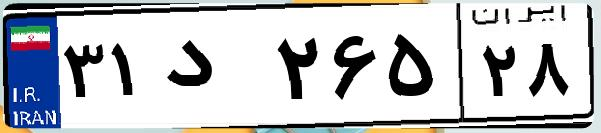1: (110, 28, 158, 98)
2: (270, 28, 330, 110), (475, 38, 525, 113)
3: (57, 26, 110, 100)
5: (385, 28, 445, 110)
6: (330, 28, 385, 110)
8: (525, 38, 570, 115)
د: (158, 20, 270, 120)
